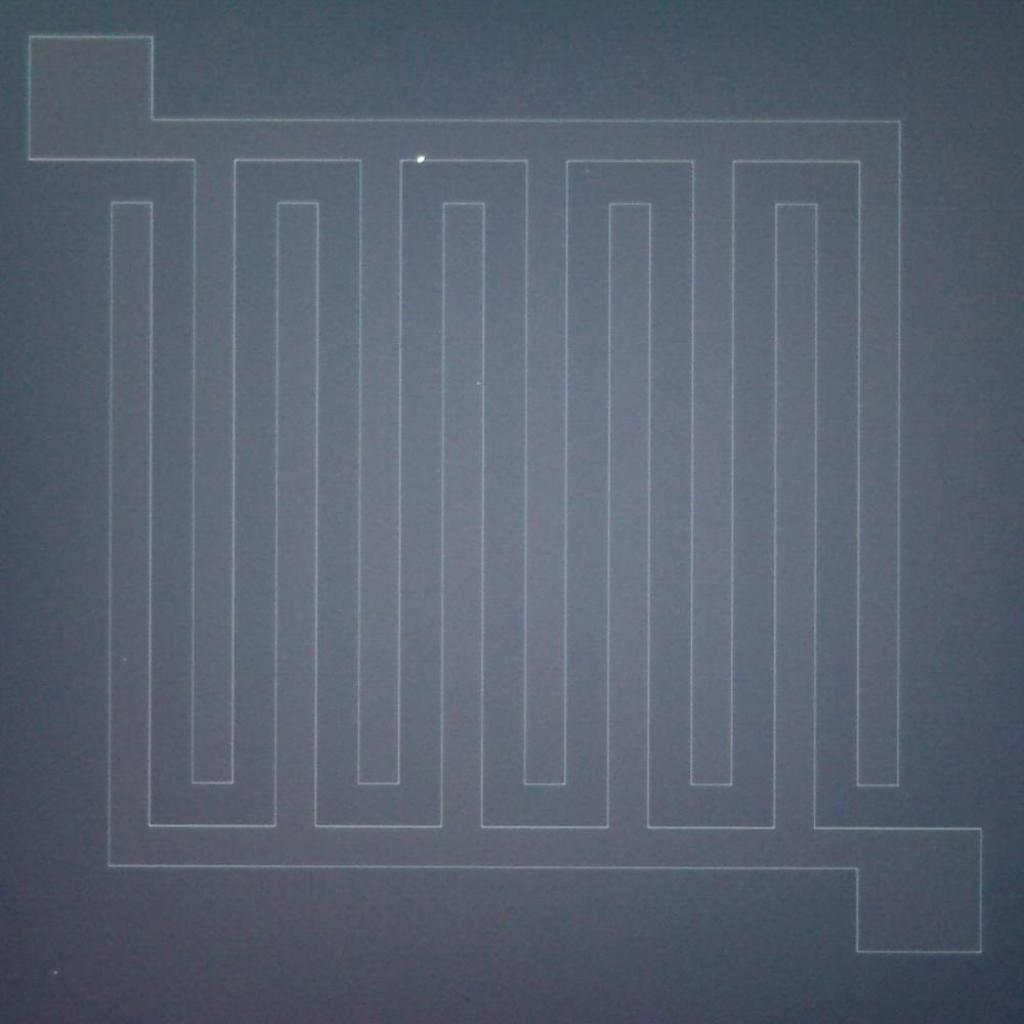dot: (409, 149, 433, 170)
